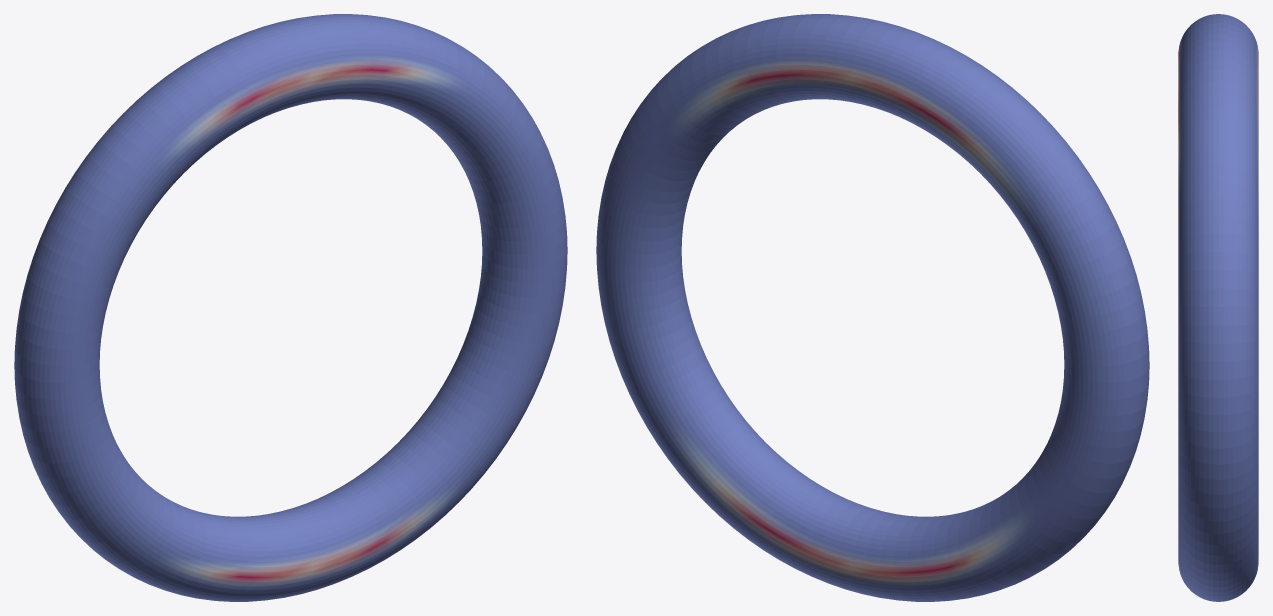
3 views of the same model, side by side, from view 1: azimuth 30°, elevation 25°; view 2: azimuth 150°, elevation 25°; view 3: azimuth 270°, elevation 25° (orthographic). The views are drawn at different scales.
Parts seen in each view (by area): view 1: world; view 2: world; view 3: world.
Boxes of the visible parts, x1,y1,x2,y2 form: world: (14,14,567,601); world: (596,14,1149,601); world: (1178,14,1258,601).
Bounding box in the file's own units: 14.67 × 14.67 × 2.
